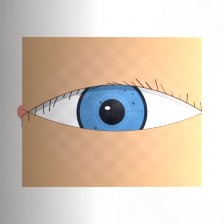hemorrhage_spot: (73, 70, 143, 127)
